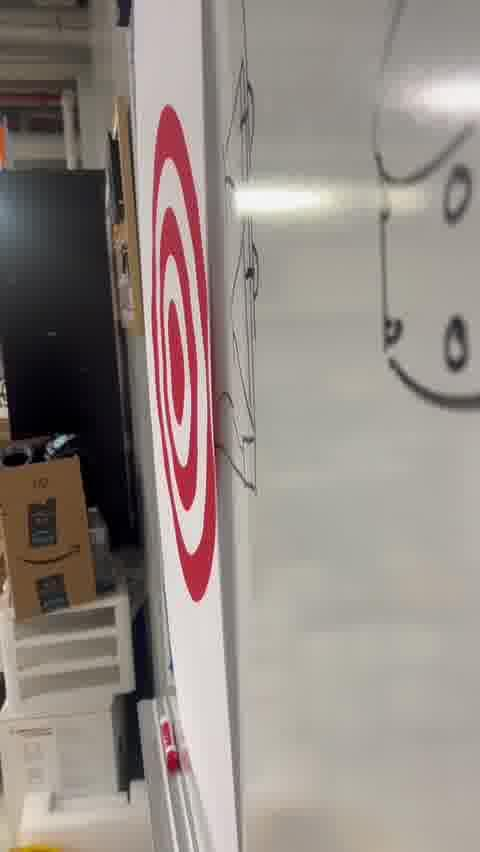target_red: (149, 105, 221, 600)
